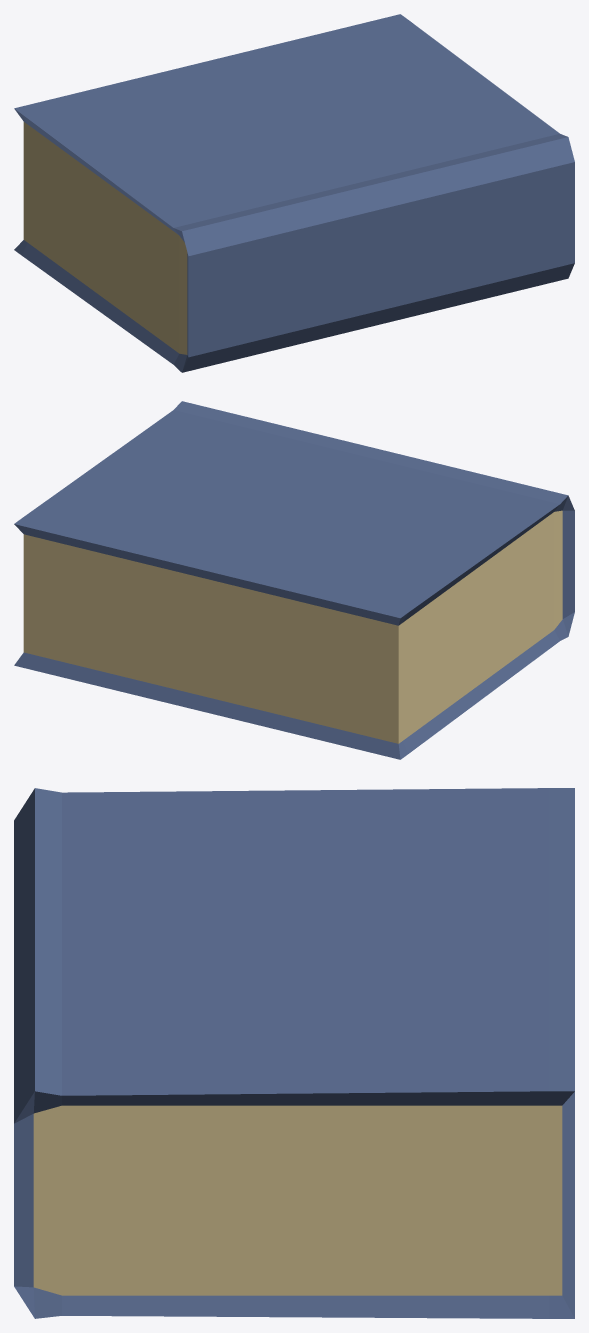
File: BigBook.fbx
3 views of the same model, one above another, from view 1: azimuth 30°, elevation 25°; view 2: azimuth 150°, elevation 25°; view 3: azimuth 270°, elevation 25° (orthographic). The views are drawn at different scales.
Visible parts, largest first — view 1: Cube; view 2: Cube; view 3: Cube.
Part boxes in pixels (x1,y1,x2,y2): Cube: [14, 14, 574, 372]; Cube: [14, 401, 574, 759]; Cube: [14, 788, 574, 1318].
Size of the model in its own units: 200 by 70 by 156.
